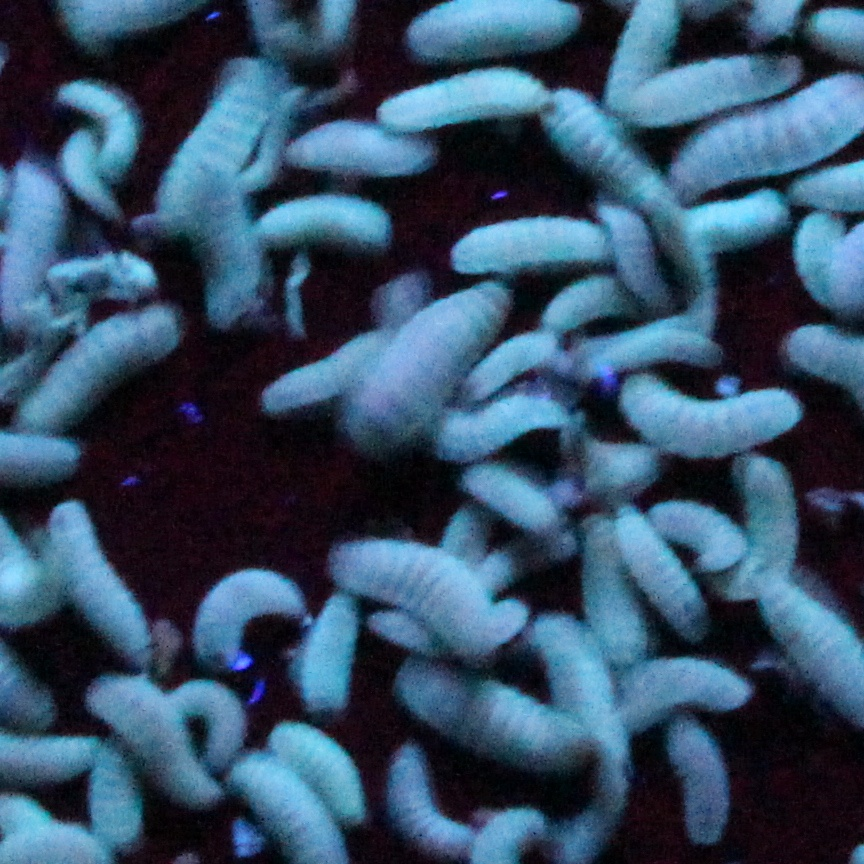larve: (348, 302, 479, 446), (160, 69, 269, 216), (411, 679, 579, 767), (42, 308, 168, 421), (96, 671, 194, 801), (558, 85, 665, 197), (68, 515, 145, 657), (634, 377, 801, 442), (558, 634, 607, 853), (199, 563, 291, 677), (624, 510, 707, 626), (340, 553, 483, 614), (732, 465, 795, 600), (387, 742, 460, 850), (10, 161, 59, 315), (284, 726, 368, 815), (595, 318, 711, 379), (640, 73, 789, 120), (395, 81, 548, 126), (201, 181, 256, 306), (269, 336, 385, 395), (669, 730, 726, 840), (567, 432, 654, 504), (460, 220, 595, 263), (448, 404, 556, 457), (262, 200, 381, 248), (597, 520, 638, 659), (464, 467, 560, 526), (622, 659, 746, 704), (465, 338, 546, 399), (75, 89, 138, 166), (305, 126, 418, 167), (92, 742, 140, 836), (379, 616, 520, 648), (603, 208, 652, 299), (687, 197, 797, 236), (194, 684, 243, 770), (675, 510, 746, 567), (318, 595, 352, 714), (483, 530, 579, 571), (548, 287, 626, 336), (63, 133, 110, 214), (801, 212, 836, 306)
